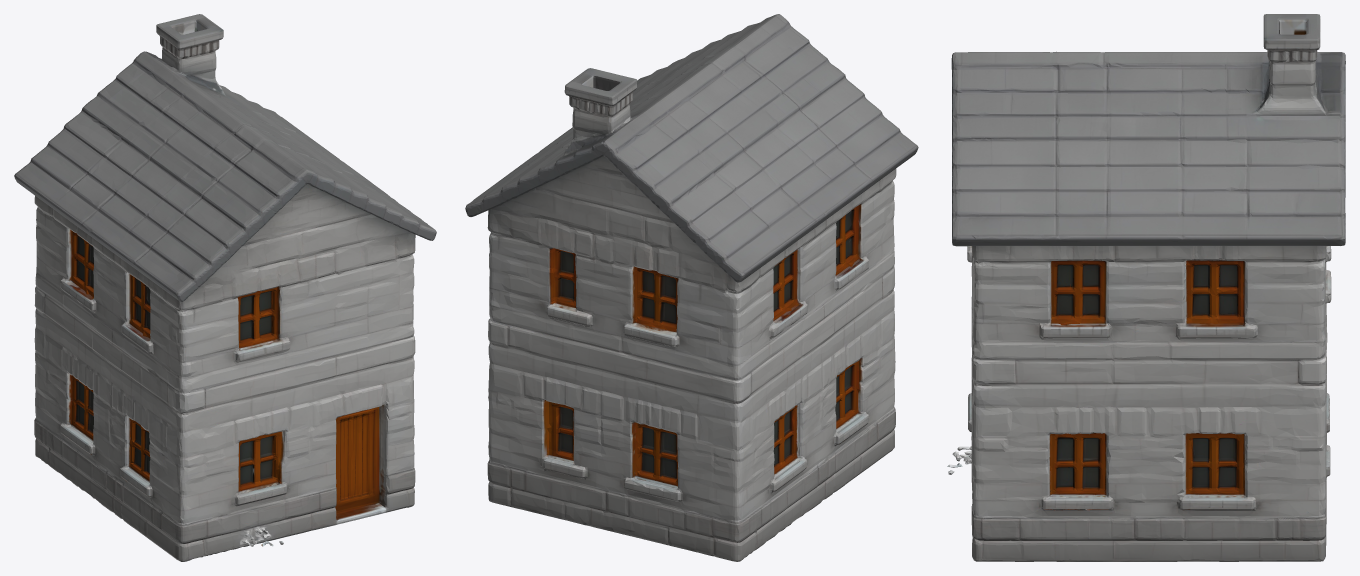
Rendered from building_stone.glb.
The picture shows the model from 3 angles, left to right: view 1: azimuth 30°, elevation 25°; view 2: azimuth 150°, elevation 25°; view 3: azimuth 270°, elevation 25°; orthographic projection. The views are drawn at different scales.
Parts seen in each view (by area): view 1: textured_mesh.obj; view 2: textured_mesh.obj; view 3: textured_mesh.obj.
Boxes of the visible parts, x1,y1,x2,y2 form: textured_mesh.obj: (14,14,436,561); textured_mesh.obj: (465,14,918,561); textured_mesh.obj: (947,14,1345,561).
Size of the model in its own units: 1.34 by 1.99 by 1.49.
Materials: 1 (1 with a texture image).
